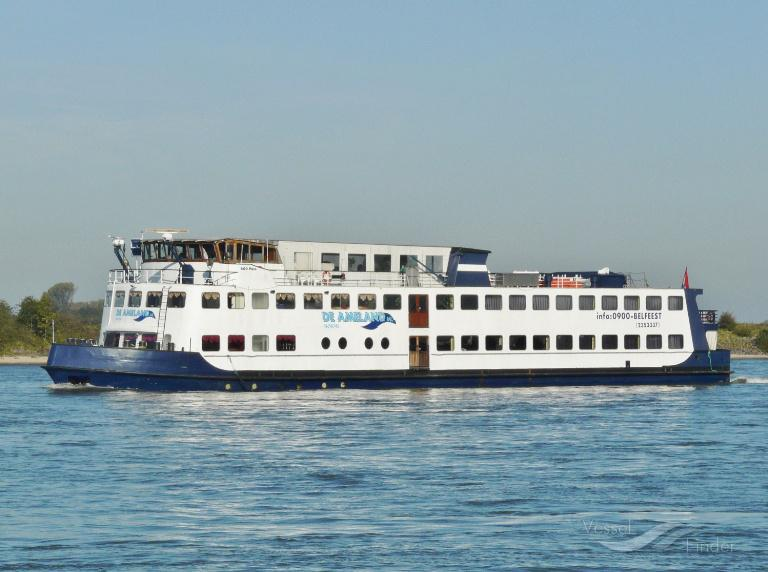OCR: (310, 309, 396, 332)
